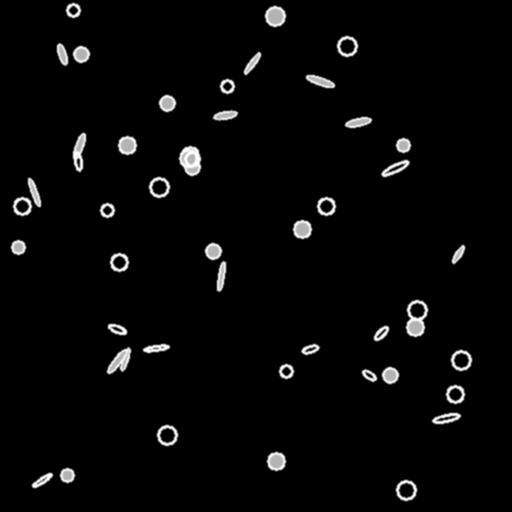pseudomonas: (106, 348, 128, 374), (381, 159, 409, 177), (305, 73, 335, 89), (71, 132, 87, 160), (243, 52, 261, 74), (31, 471, 53, 489), (27, 178, 41, 206), (432, 412, 460, 424), (119, 347, 131, 371), (107, 322, 127, 336), (216, 262, 226, 290), (56, 43, 68, 65), (373, 325, 389, 341), (451, 245, 465, 263), (213, 110, 237, 120), (346, 117, 370, 127), (361, 368, 377, 382), (301, 343, 319, 355), (143, 344, 169, 352), (73, 152, 83, 170)
synechocystis: (266, 7, 284, 25), (150, 178, 168, 196), (338, 37, 356, 55), (397, 481, 415, 499), (408, 301, 426, 319), (452, 351, 470, 369), (158, 426, 176, 444), (268, 453, 284, 469), (14, 198, 30, 214), (407, 319, 423, 335), (294, 221, 310, 237), (182, 147, 198, 163), (180, 150, 196, 166), (447, 386, 463, 402), (318, 198, 334, 214), (111, 254, 127, 270), (119, 137, 135, 153), (206, 244, 220, 258), (74, 47, 88, 61), (160, 96, 174, 110), (383, 368, 397, 382), (185, 160, 199, 174), (185, 152, 199, 166), (101, 204, 113, 216), (280, 365, 292, 377), (397, 139, 409, 151), (67, 4, 79, 16), (61, 469, 73, 481), (12, 241, 24, 253), (221, 80, 233, 92)
